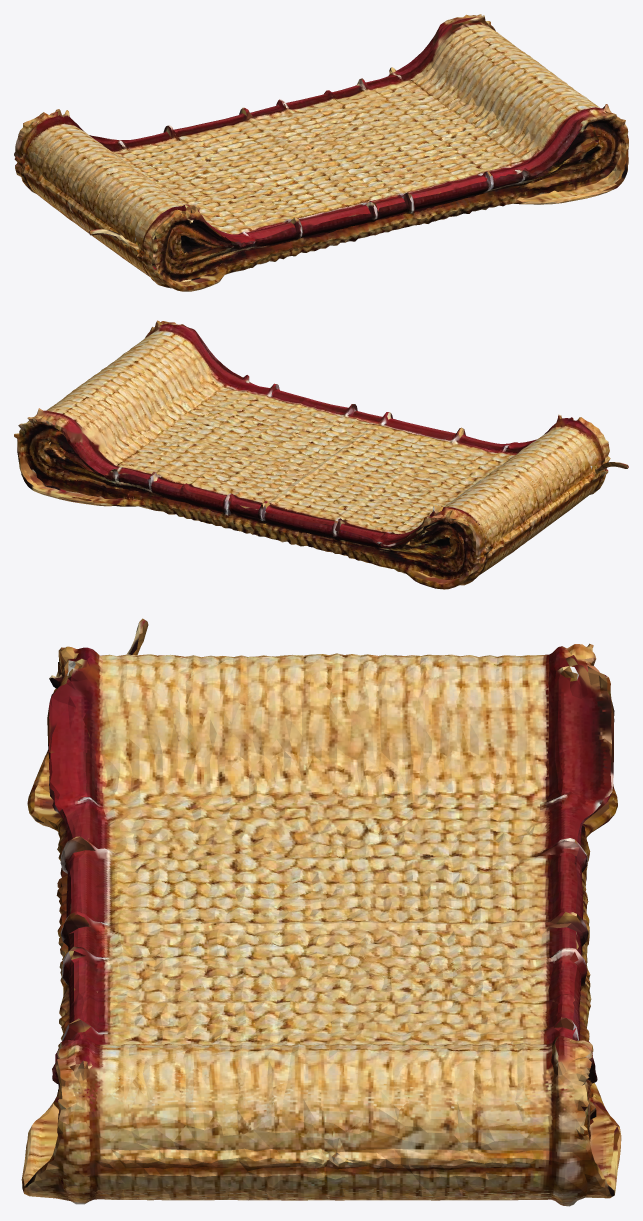
The model's file is traveler_env_coast_kamen_rotted_sleep_mat_00001_.glb.
3 views of the same model, one above another, from view 1: azimuth 30°, elevation 25°; view 2: azimuth 150°, elevation 25°; view 3: azimuth 270°, elevation 25° (orthographic). The views are drawn at different scales.
Visible parts, largest first — view 1: temp_mesh.ply; view 2: temp_mesh.ply; view 3: temp_mesh.ply.
Part boxes in pixels (x1,y1,x2,y2): temp_mesh.ply: (14, 14, 628, 291); temp_mesh.ply: (14, 320, 628, 589); temp_mesh.ply: (21, 618, 621, 1206).
Bounding box in the file's own units: 1.97 × 0.3059 × 1.01.
Materials: 1 (1 with a texture image).
